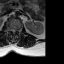CCS_normal: (13, 26, 14, 35)
LFS_stenosis: (16, 27, 18, 33)
LLS_stenosis: (14, 27, 16, 34)
RFS_stenosis: (9, 26, 11, 32)
RLS_normal: (11, 27, 13, 33)
